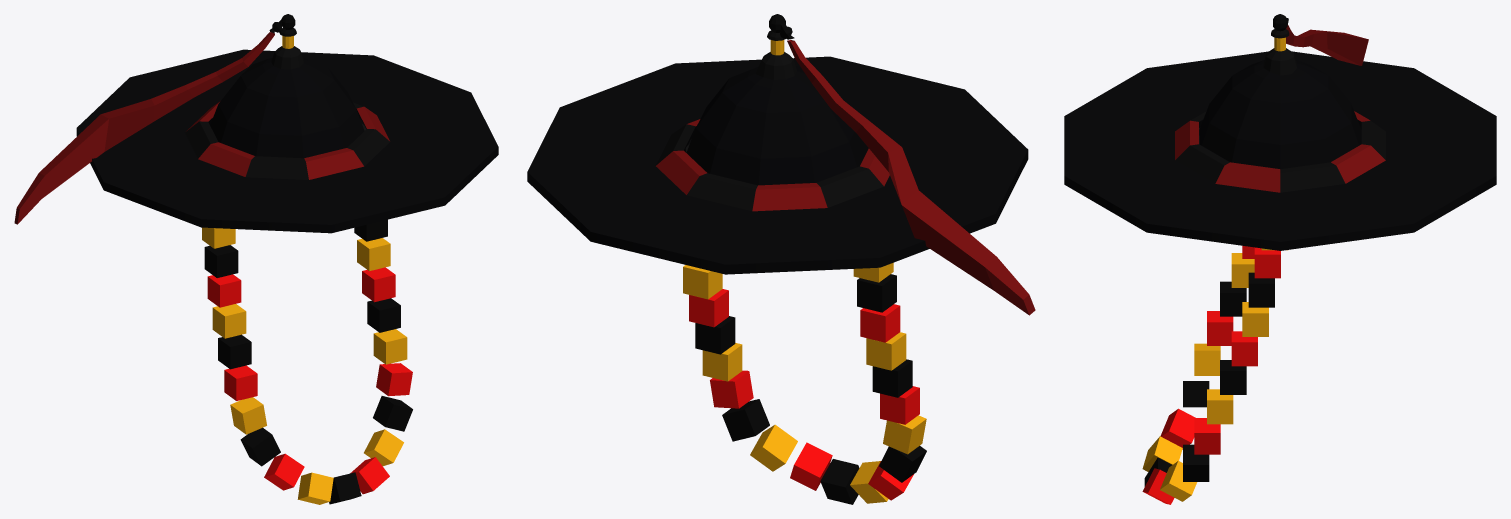
The model's file is Hat_3.FBX.
3 renders of one model, left to right at view 1: azimuth 30°, elevation 25°; view 2: azimuth 150°, elevation 25°; view 3: azimuth 270°, elevation 25°, orthographic. The views are drawn at different scales.
Visible parts, largest first — view 1: Object005; view 2: Object005; view 3: Object005.
Boxes of the visible parts, box(x1,y1,x2,y2) form: Object005: box(14, 14, 498, 504); Object005: box(527, 14, 1035, 504); Object005: box(1064, 14, 1496, 504).
Bounding box in the file's own units: 19.57 × 19.65 × 16.
